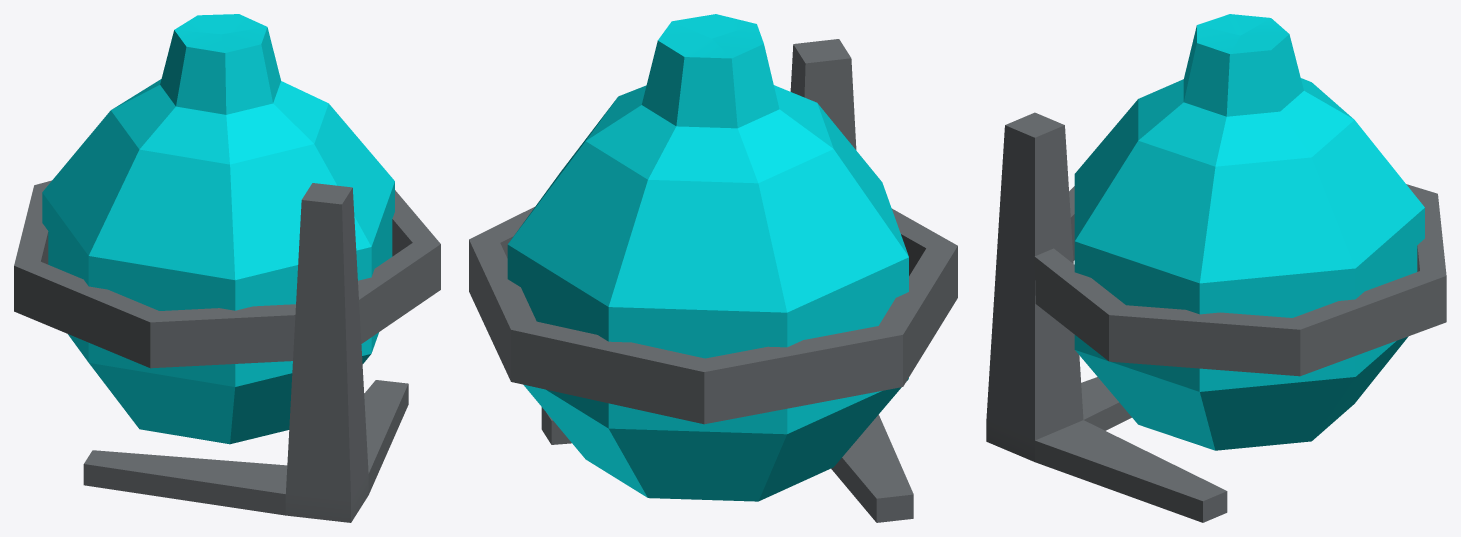
The model's file is LightGreyMetalDecorationSmallScienceItem3.fbx.
3 renders of one model, left to right at view 1: azimuth 30°, elevation 25°; view 2: azimuth 150°, elevation 25°; view 3: azimuth 270°, elevation 25°, orthographic. The views are drawn at different scales.
Parts seen in each view (by area): view 1: LightGreyMetalDecorationSmallScienceItem3; view 2: LightGreyMetalDecorationSmallScienceItem3; view 3: LightGreyMetalDecorationSmallScienceItem3.
Part boxes in pixels (left/top/right/bottom): LightGreyMetalDecorationSmallScienceItem3: left=14, top=14, right=440, bottom=522; LightGreyMetalDecorationSmallScienceItem3: left=469, top=14, right=957, bottom=522; LightGreyMetalDecorationSmallScienceItem3: left=986, top=14, right=1446, bottom=522.
Bounding box in the file's own units: 150 × 154 × 158.
